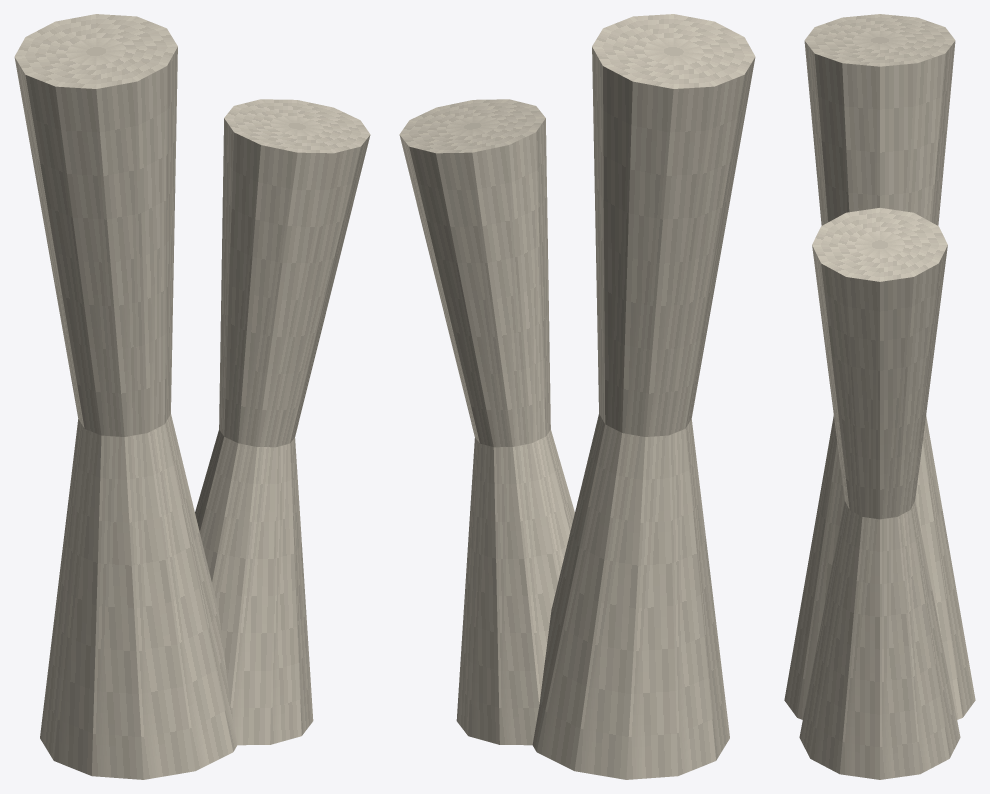
The model's file is cave-and-crystal-networks-joined-column-pair-10211117.glb.
The picture shows the model from 3 angles, left to right: view 1: azimuth 30°, elevation 25°; view 2: azimuth 150°, elevation 25°; view 3: azimuth 270°, elevation 25°; orthographic projection. The views are drawn at different scales.
Parts seen in each view (by area): view 1: joined-column-pair; view 2: joined-column-pair; view 3: joined-column-pair.
Boxes of the visible parts, box(x1,y1,x2,y2) form: joined-column-pair: box(14, 14, 370, 779); joined-column-pair: box(399, 14, 755, 779); joined-column-pair: box(784, 14, 975, 779).
Bounding box in the file's own units: 1.42 × 2.86 × 0.7599.
Materials: 1 (1 with a texture image).
